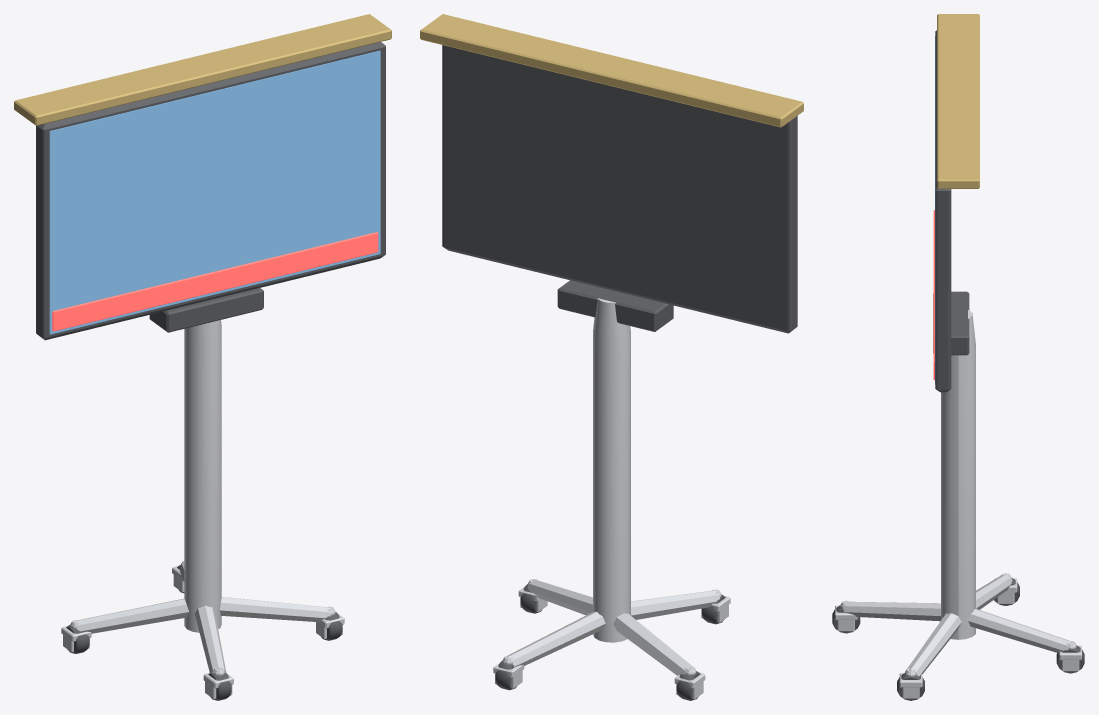
The model's file is escape-room-and-puzzle-venue-briefing-screen-on-stand-9d2b7005.glb.
3 renders of one model, left to right at view 1: azimuth 30°, elevation 25°; view 2: azimuth 150°, elevation 25°; view 3: azimuth 270°, elevation 25°, orthographic. The views are drawn at different scales.
Visible parts, largest first — view 1: briefing-screen-on-stand; view 2: briefing-screen-on-stand; view 3: briefing-screen-on-stand.
Part boxes in pixels (<box>): briefing-screen-on-stand: <box>14,14,391,700</box>; briefing-screen-on-stand: <box>420,14,803,700</box>; briefing-screen-on-stand: <box>832,14,1084,700</box>.
Bounding box in the file's own units: 1.1 × 1.71 × 0.7043.
